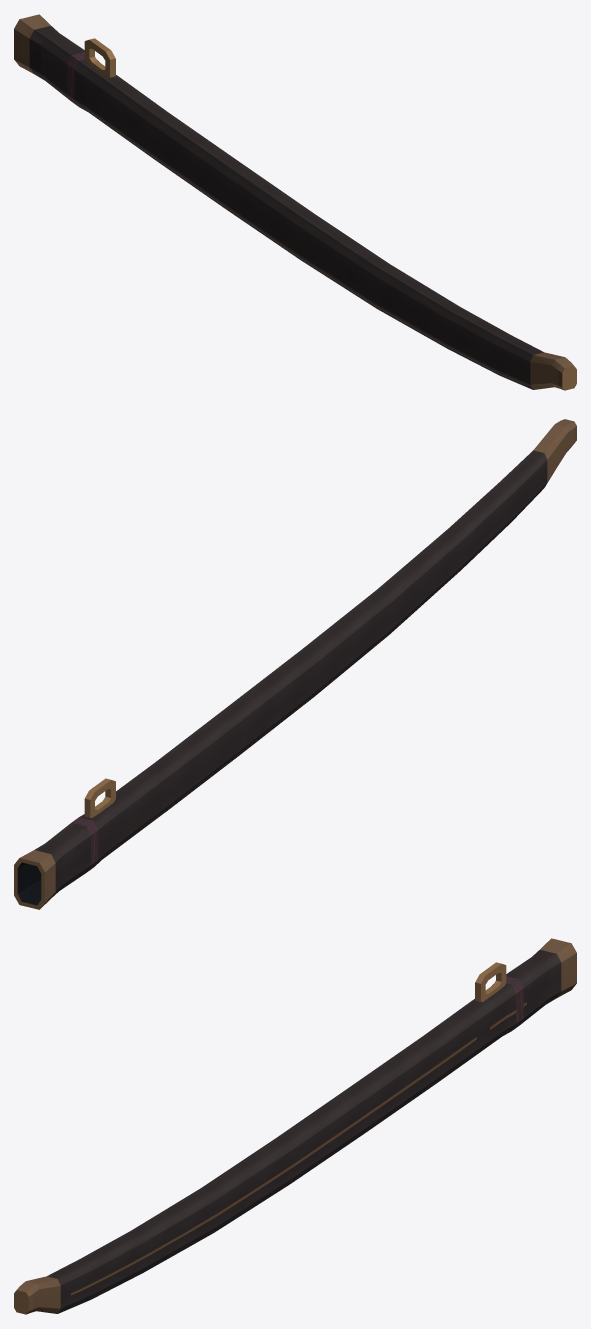
File: kit_scabbard_v1.fbx
3 renders of one model, top to bottom at view 1: azimuth 30°, elevation 25°; view 2: azimuth 150°, elevation 25°; view 3: azimuth 330°, elevation 25°, orthographic.
Visible parts, largest first — view 1: SM_KitScabbard_V1; view 2: SM_KitScabbard_V1; view 3: SM_KitScabbard_V1.
Boxes of the visible parts, left/top/right/bottom form: SM_KitScabbard_V1: left=14, top=14, right=576, bottom=390; SM_KitScabbard_V1: left=14, top=419, right=576, bottom=909; SM_KitScabbard_V1: left=14, top=938, right=576, bottom=1314.
Bounding box in the file's own units: 0.038 × 0.1095 × 1.15.
1 material, 1 textured.
